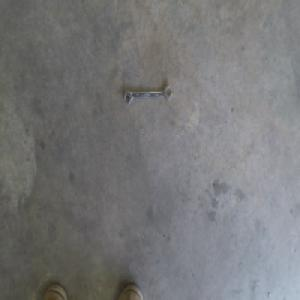Wrench: (123, 85, 173, 105)
